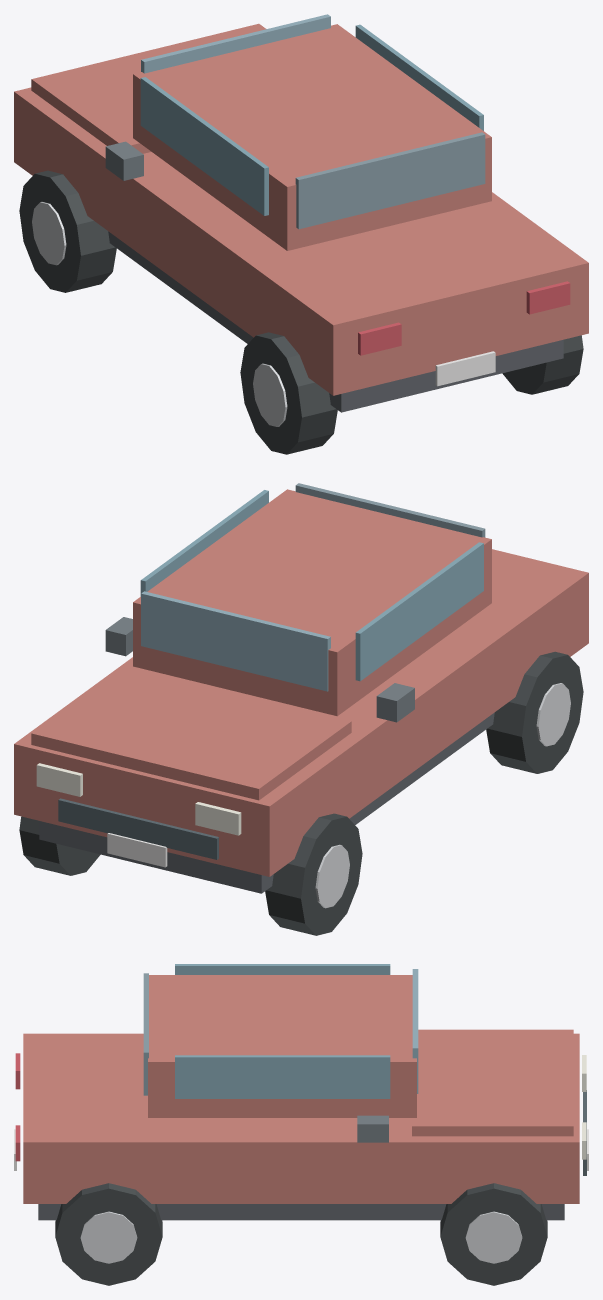
Rendered from celta.glb.
The picture shows the model from 3 angles, top to bottom: view 1: azimuth 30°, elevation 25°; view 2: azimuth 150°, elevation 25°; view 3: azimuth 270°, elevation 25°; orthographic projection. The views are drawn at different scales.
Parts seen in each view (by area): view 1: body_0001, roof_0018, rear_window_0020, hood_0002, side_window_0021, wheel_tire_0004, wheel_tire_0006, chassis_0000, windshield_0019, wheel_tire_0013, side_window_0022, wheel_rim_0005 (+5 smaller); view 2: body_0001, roof_0018, hood_0002, windshield_0019, side_window_0021, wheel_tire_0006, wheel_tire_0004, chassis_0000, front_grille_0003, wheel_tire_0011, side_window_0022, rear_window_0020 (+7 smaller); view 3: body_0001, roof_0018, hood_0002, side_window_0022, wheel_tire_0011, wheel_tire_0013, chassis_0000, side_window_0021, wheel_rim_0012, wheel_rim_0014, mirror_0017, rear_window_0020 (+1 smaller).
Boxes of the visible parts, x1,y1,x2,y2 form: body_0001: [14, 87, 588, 395]; roof_0018: [133, 24, 491, 250]; rear_window_0020: [295, 132, 485, 229]; hood_0002: [31, 23, 266, 153]; side_window_0021: [140, 77, 268, 215]; wheel_tire_0004: [19, 170, 116, 292]; wheel_tire_0006: [240, 332, 337, 454]; chassis_0000: [108, 231, 563, 412]; windshield_0019: [141, 14, 330, 73]; wheel_tire_0013: [502, 335, 583, 394]; side_window_0022: [355, 24, 483, 130]; wheel_rim_0005: [32, 202, 66, 265]; body_0001: [14, 549, 588, 876]; roof_0018: [133, 489, 491, 716]; hood_0002: [31, 665, 351, 800]; windshield_0019: [141, 591, 330, 691]; side_window_0021: [355, 542, 483, 681]; wheel_tire_0006: [486, 651, 583, 773]; wheel_tire_0004: [265, 813, 362, 935]; chassis_0000: [39, 712, 494, 893]; front_grille_0003: [58, 798, 218, 859]; wheel_tire_0011: [19, 816, 100, 875]; side_window_0022: [140, 490, 268, 596]; rear_window_0020: [295, 483, 485, 537]; body_0001: [23, 1033, 579, 1203]; roof_0018: [148, 975, 416, 1117]; hood_0002: [412, 1029, 573, 1136]; side_window_0022: [175, 1055, 390, 1098]; wheel_tire_0011: [440, 1183, 547, 1285]; wheel_tire_0013: [55, 1183, 162, 1285]; chassis_0000: [38, 1204, 564, 1220]; side_window_0021: [175, 964, 390, 974]; wheel_rim_0012: [465, 1211, 522, 1263]; wheel_rim_0014: [80, 1211, 137, 1263]; mirror_0017: [357, 1115, 388, 1142]; rear_window_0020: [143, 973, 148, 1095].
Bounding box in the file's own units: 1.86 × 1.52 × 3.64.
